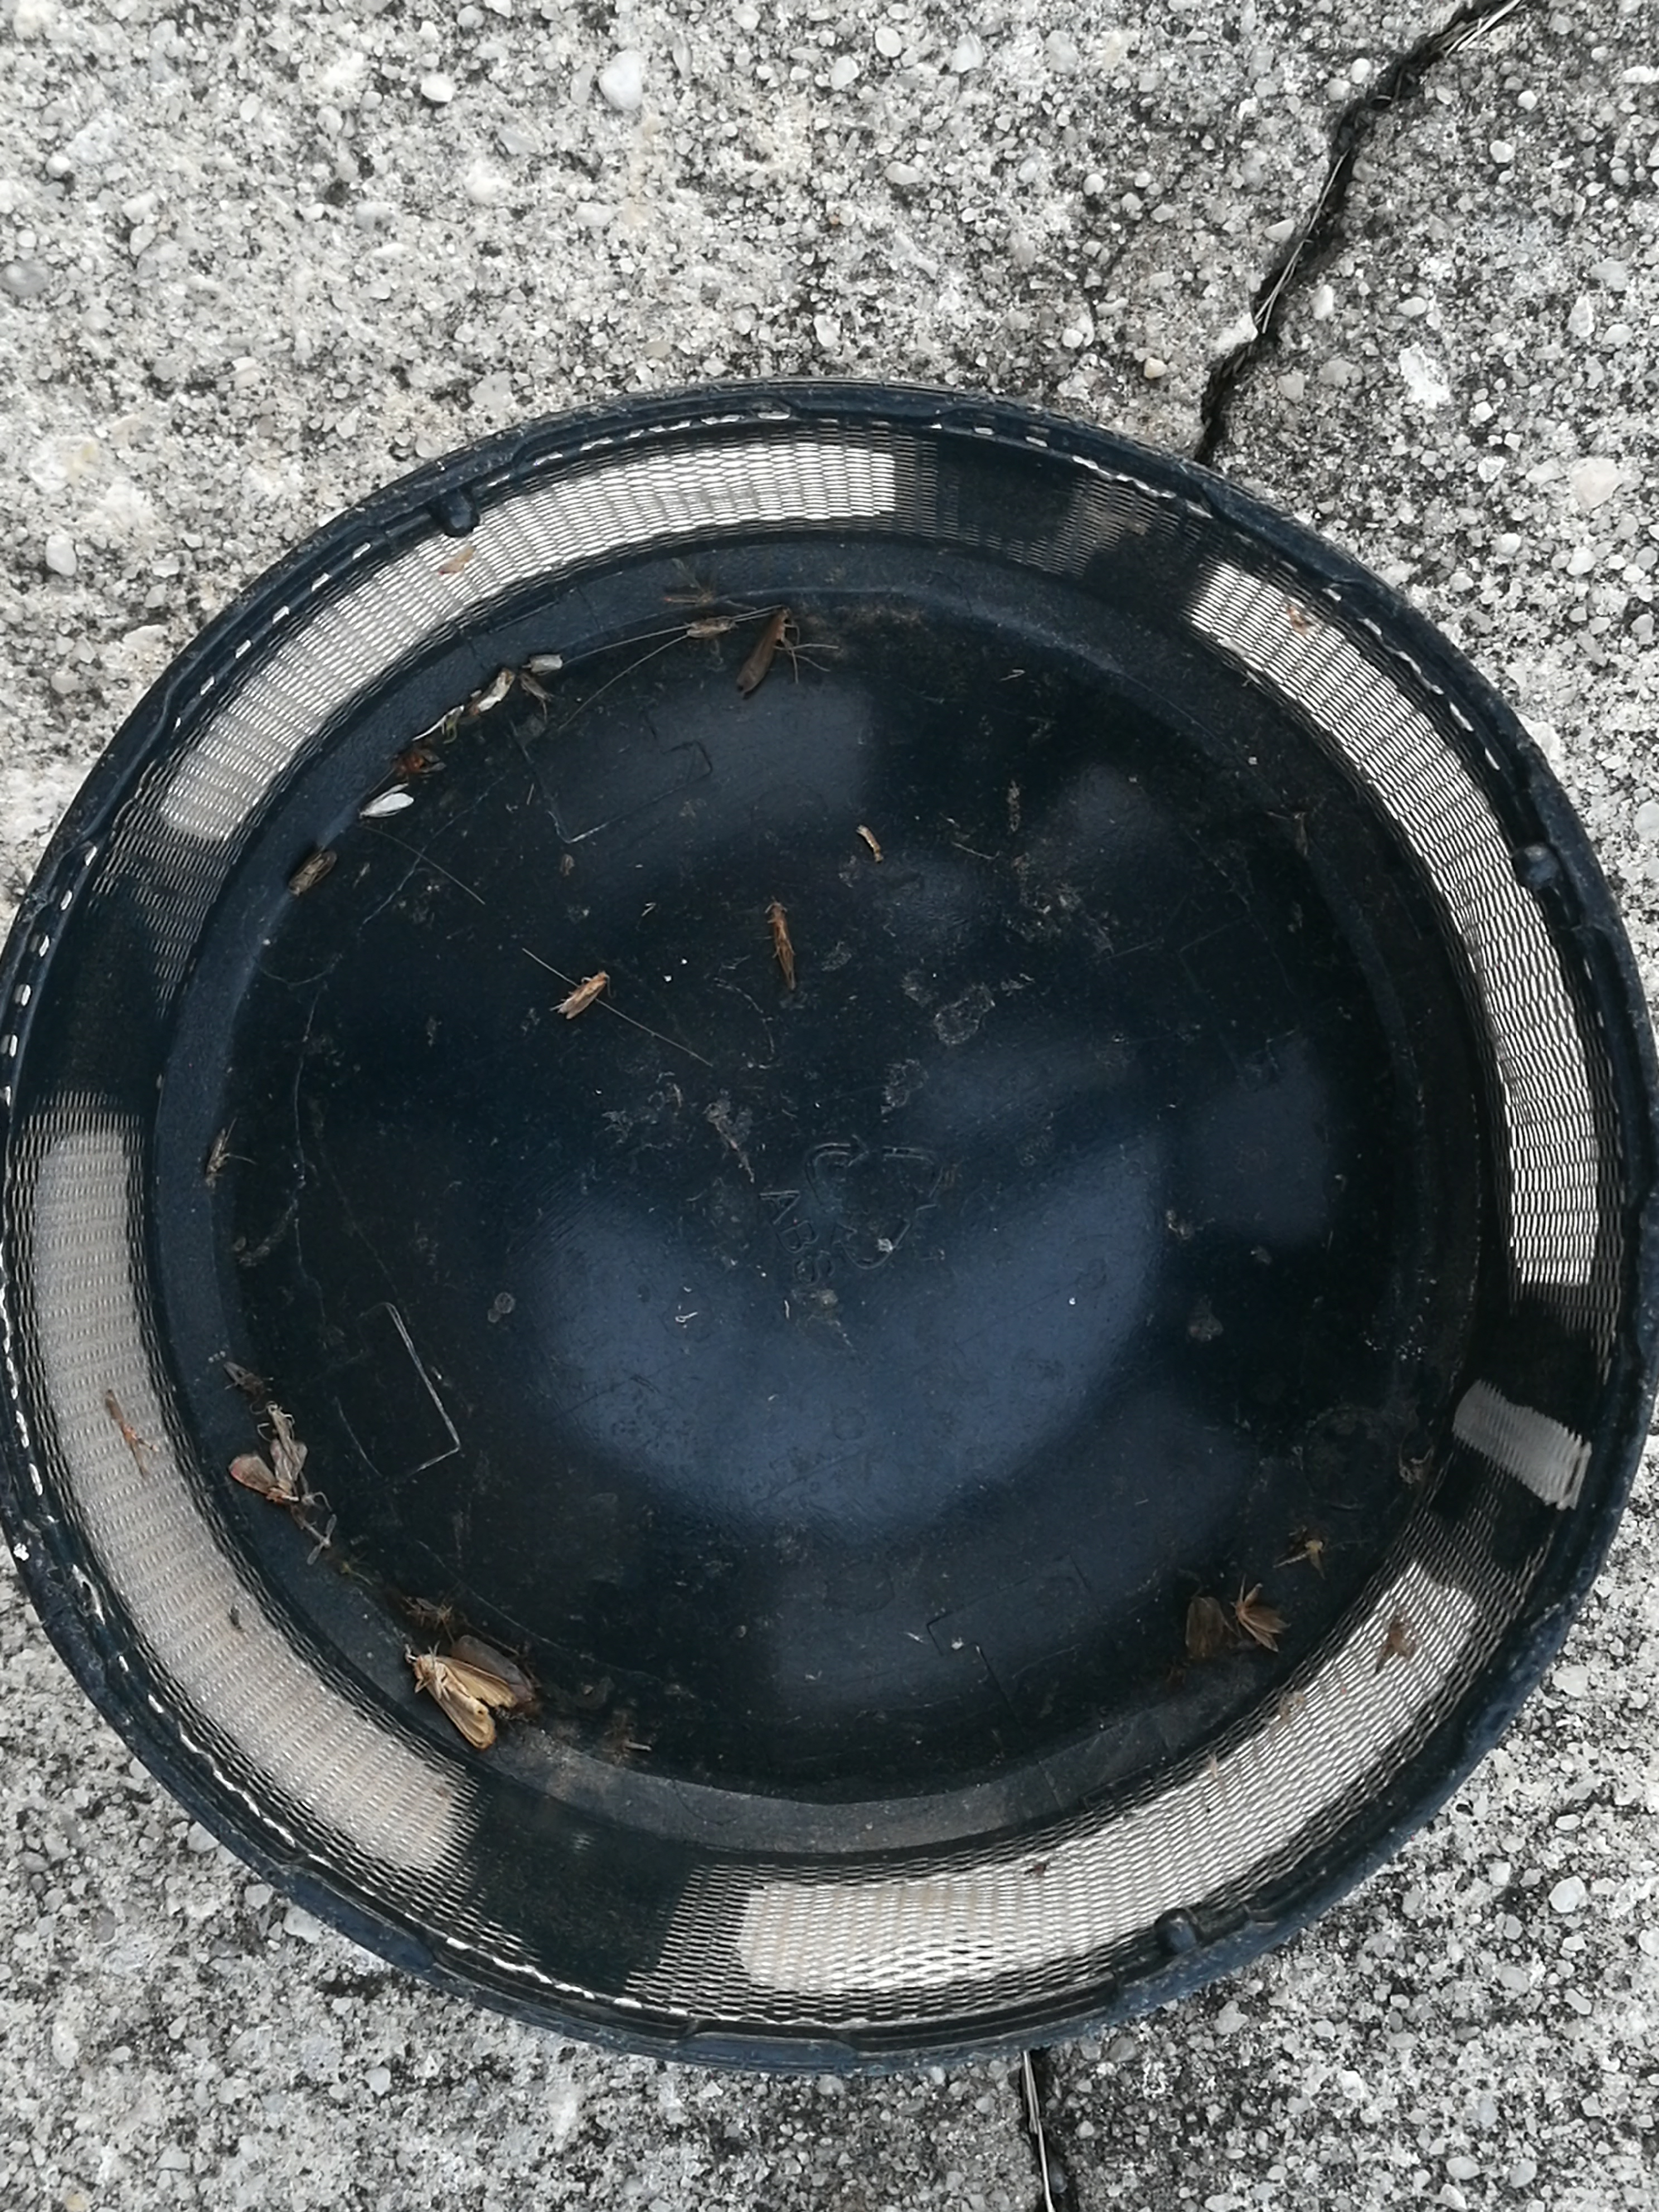mosquito: (737, 604, 789, 693), (558, 968, 608, 1017), (770, 895, 795, 988), (291, 852, 336, 895), (355, 791, 411, 819), (685, 615, 737, 637), (519, 669, 549, 702), (207, 1127, 227, 1177)
moth: (416, 1655, 514, 1750), (228, 1439, 308, 1503)
